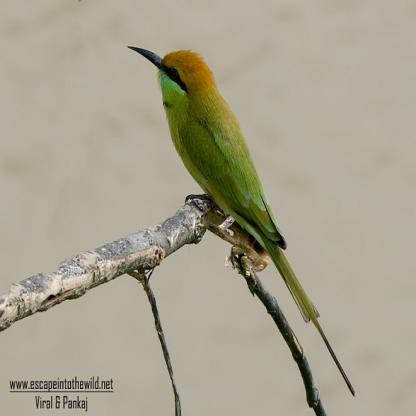Burung: (126, 45, 355, 395)
